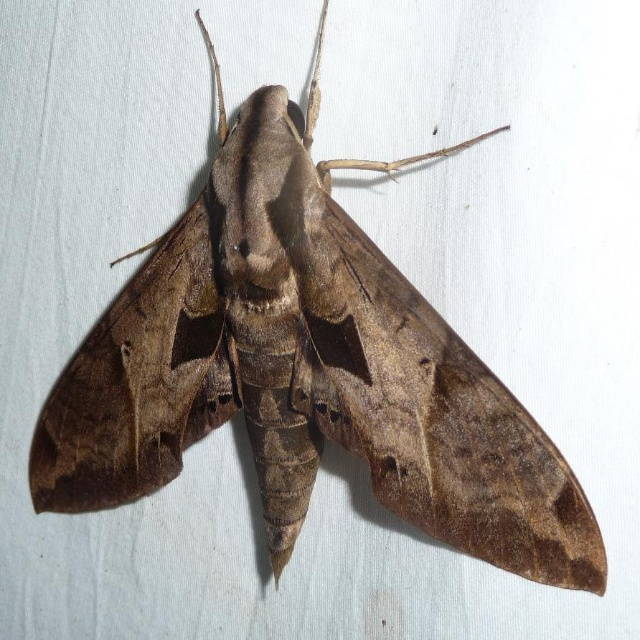Moths and butterflies: (30, 0, 609, 597)
